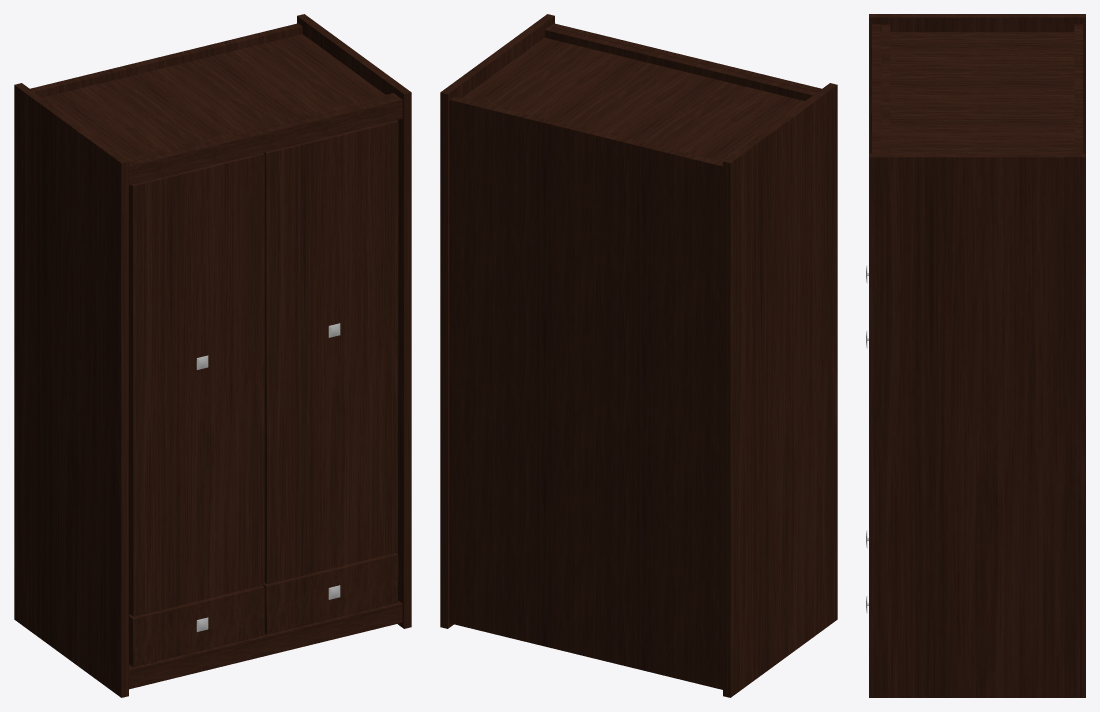
Rendered from wooden-cab6.glb.
3 views of the same model, side by side, from view 1: azimuth 30°, elevation 25°; view 2: azimuth 150°, elevation 25°; view 3: azimuth 270°, elevation 25° (orthographic).
Visible parts, largest first — view 1: Cube_8_PBR_0.006; view 2: Cube_8_PBR_0.006; view 3: Cube_8_PBR_0.006.
Boxes of the visible parts, x1,y1,x2,y2 form: Cube_8_PBR_0.006: [14, 14, 411, 697]; Cube_8_PBR_0.006: [440, 14, 837, 697]; Cube_8_PBR_0.006: [866, 14, 1085, 697].
Bounding box in the file's own units: 1.29 × 2.26 × 0.8341.
2 materials, 1 textured.
